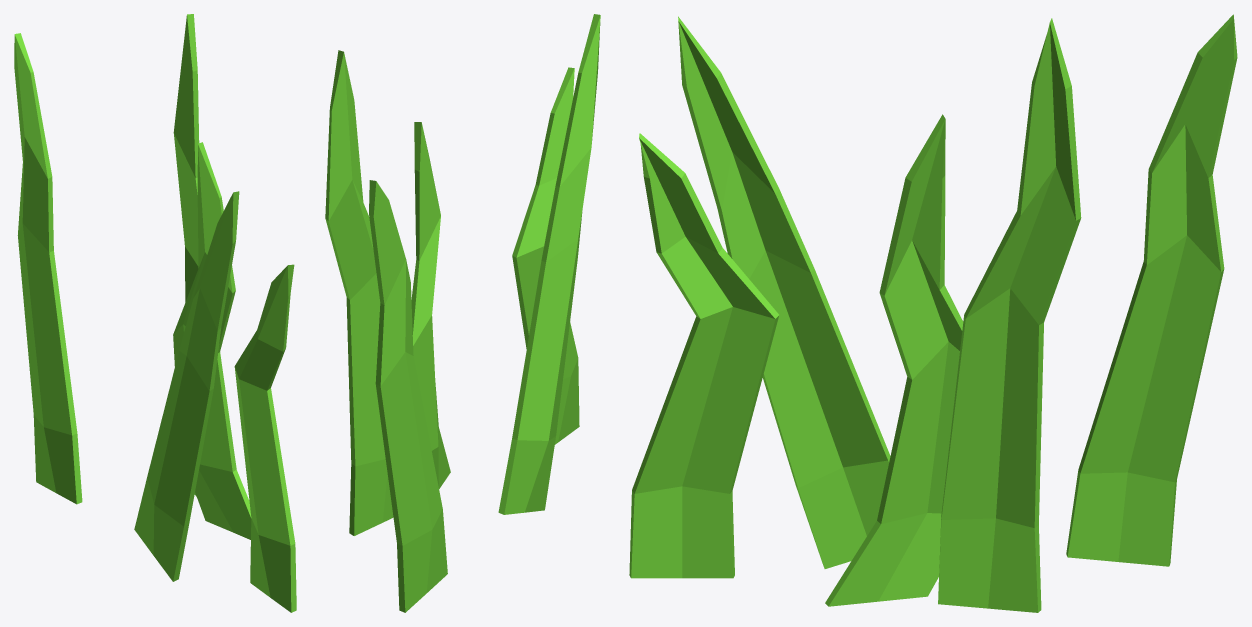
File: seaweed_1.fbx
3 renders of one model, left to right at view 1: azimuth 30°, elevation 25°; view 2: azimuth 150°, elevation 25°; view 3: azimuth 270°, elevation 25°, orthographic. The views are drawn at different scales.
Parts seen in each view (by area): view 1: Plane; view 2: Plane; view 3: Plane.
Boxes of the visible parts, x1,y1,x2,y2 form: Plane: (14,14,296,612); Plane: (325,14,600,612); Plane: (629,14,1237,612).
Bounding box in the file's own units: 195 × 726 × 653.
